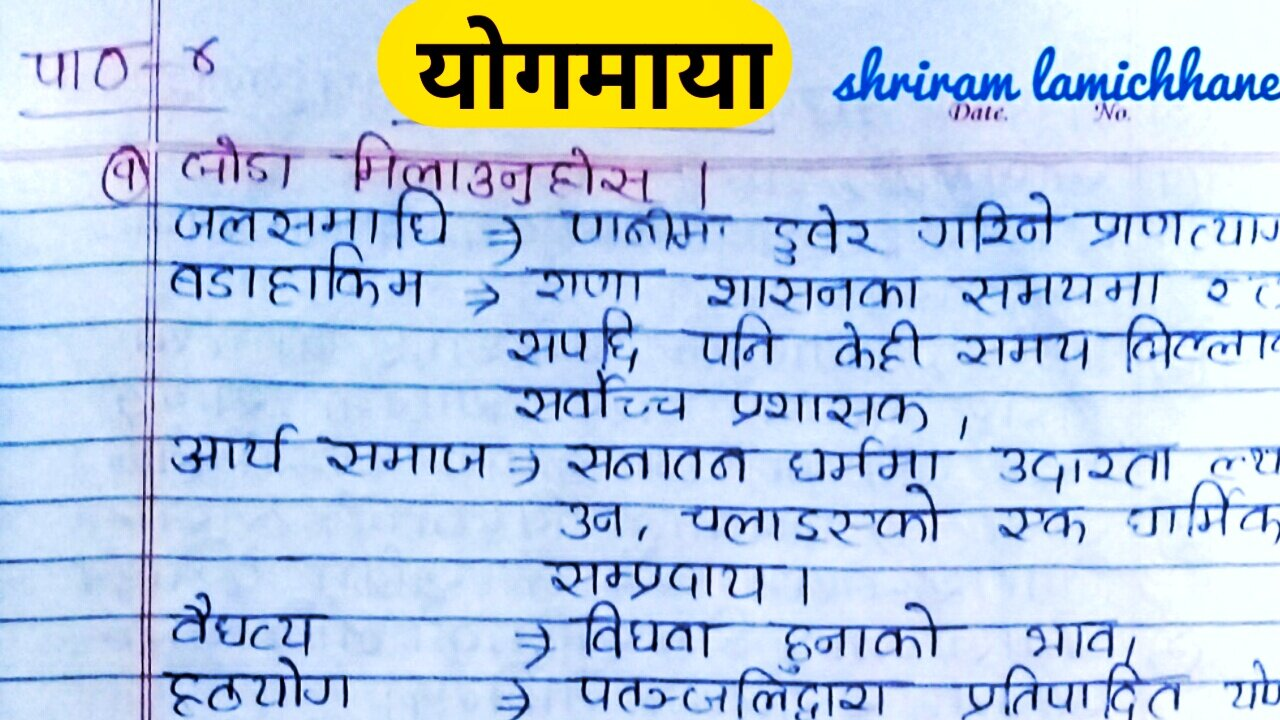text: (405, 8, 777, 121), (328, 121, 680, 208), (559, 659, 918, 720), (167, 183, 462, 254), (159, 240, 437, 311), (677, 478, 948, 548), (764, 596, 958, 672), (945, 661, 1193, 720), (156, 651, 358, 720), (535, 553, 788, 607), (691, 259, 926, 313), (715, 377, 928, 435), (310, 426, 497, 492), (1121, 480, 1280, 557), (948, 262, 1174, 315), (505, 367, 696, 429), (991, 435, 1185, 496), (551, 434, 753, 492), (1077, 197, 1280, 254), (1110, 310, 1280, 378), (162, 589, 336, 655), (570, 596, 735, 662), (504, 299, 647, 372), (916, 186, 1061, 250), (559, 203, 728, 257), (761, 196, 885, 269), (167, 130, 307, 194), (164, 413, 302, 477), (948, 318, 1097, 377), (788, 430, 950, 484), (15, 42, 143, 103), (526, 259, 667, 311), (677, 305, 783, 370), (829, 310, 931, 375), (989, 494, 1091, 553), (1015, 611, 1121, 662), (559, 489, 624, 542)
